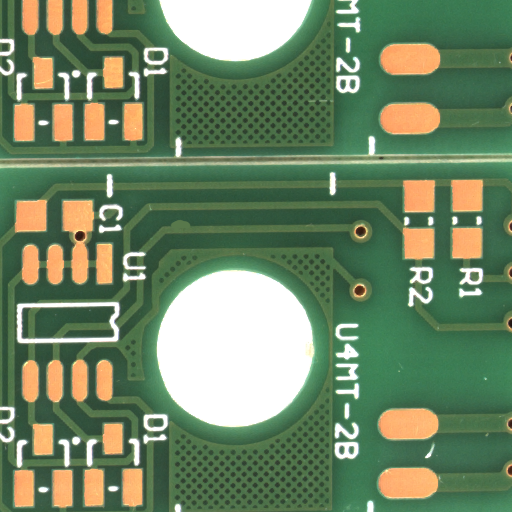Spur: (180, 223, 198, 231)
